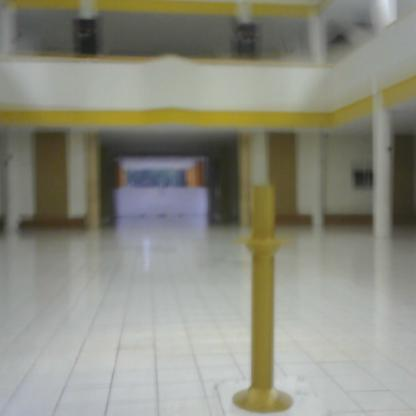pole: (231, 177, 301, 416)
